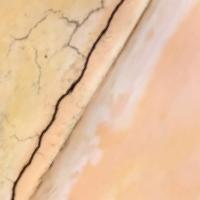crack: (0, 0, 133, 199)
